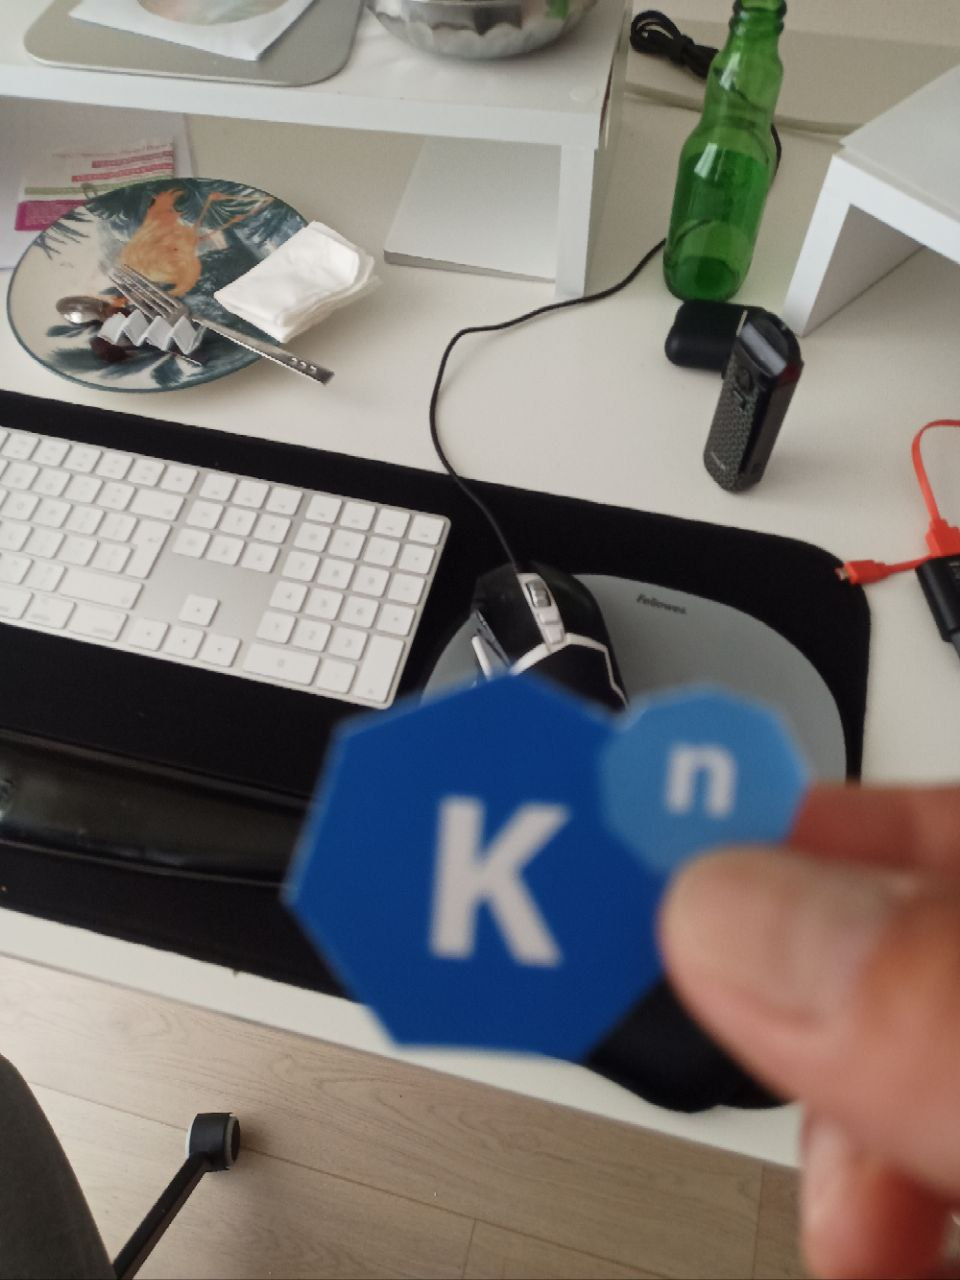knative: (278, 668, 802, 1051)
